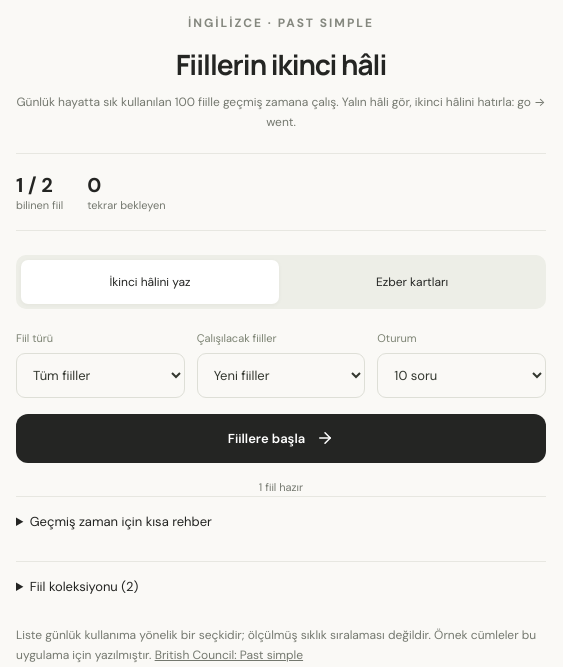
Test case: English verb workspace › filters regular verbs and due reviews and disables empty sessions
The width and height of the screenshot is (563, 667).
expect the text "1 fiil hazır" is shown: met, box [259, 480, 303, 494]
Select "Düzenli fiiller" in the dropdown labelled "Fiil türü" at x=100, y=376, box [16, 353, 185, 398]
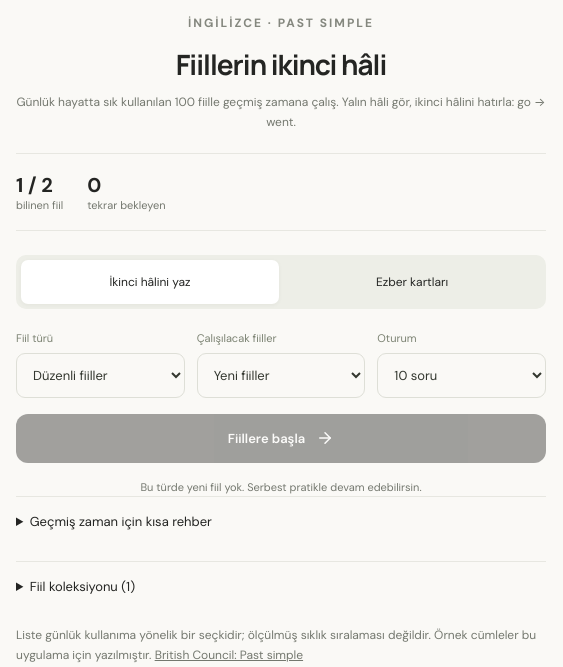
expect the button "Fiillere başla" is disabled: met, box [16, 414, 546, 463]
Select "Serbest pratik" in the dropdown labelled "Çalışılacak fiiller" at x=281, y=376, box [197, 353, 365, 398]
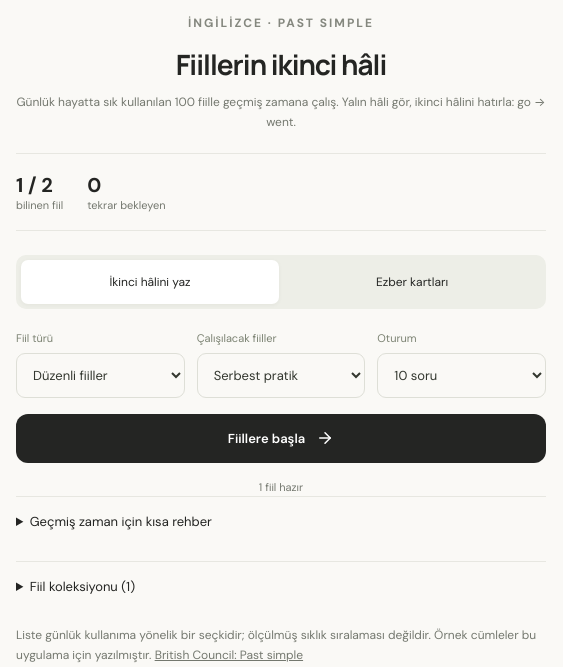
expect the text "1 fiil hazır" is shown: met, box [259, 480, 303, 494]
Select "Günlük tekrar" in the dropdown labelled "Çalışılacak fiiller" at x=281, y=376, box [197, 353, 365, 398]
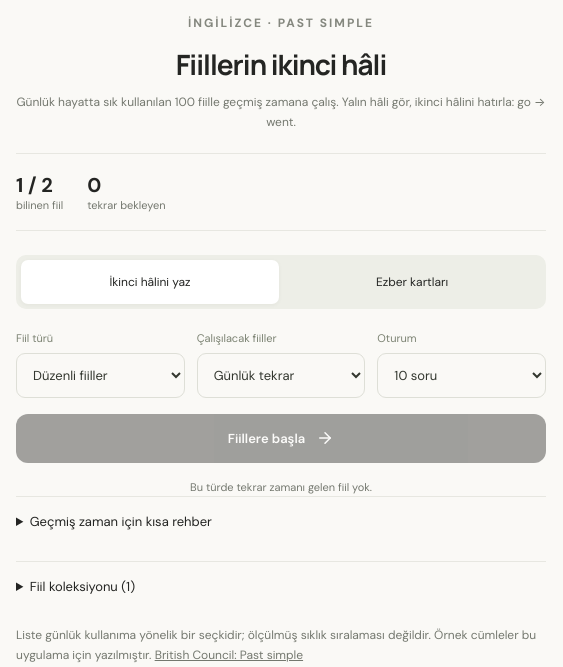
expect the text "Bu türde tekrar zamanı gelen fiil yok." is shown: met, box [190, 480, 372, 494]
